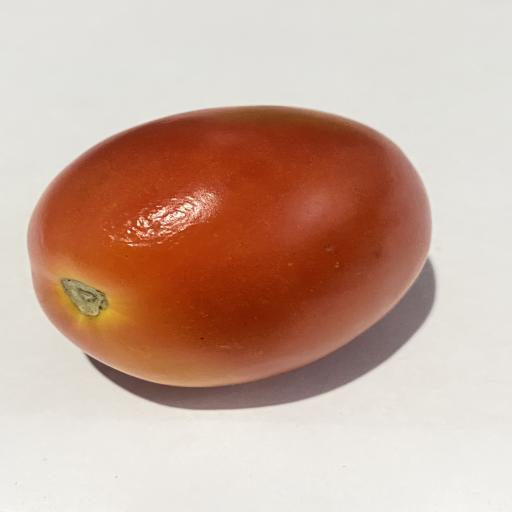overipe: (28, 106, 431, 387)
